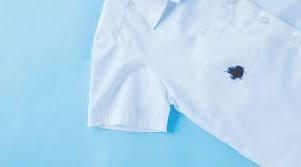ink: (227, 66, 244, 80)
